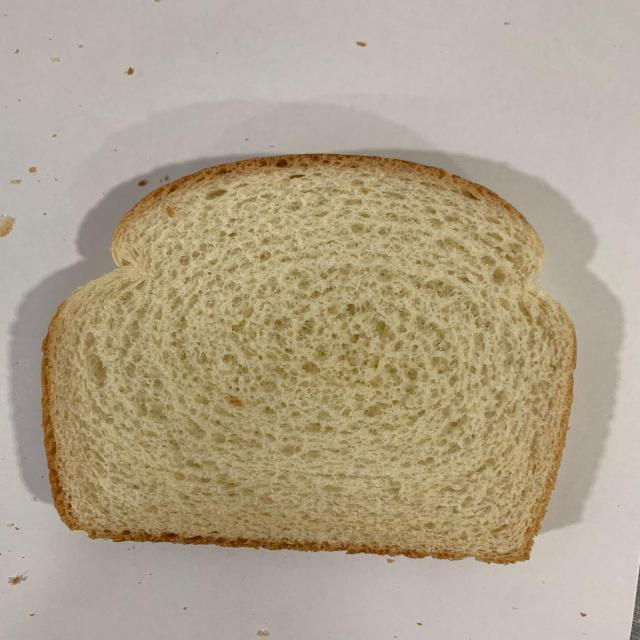pan: (42, 157, 574, 563)
